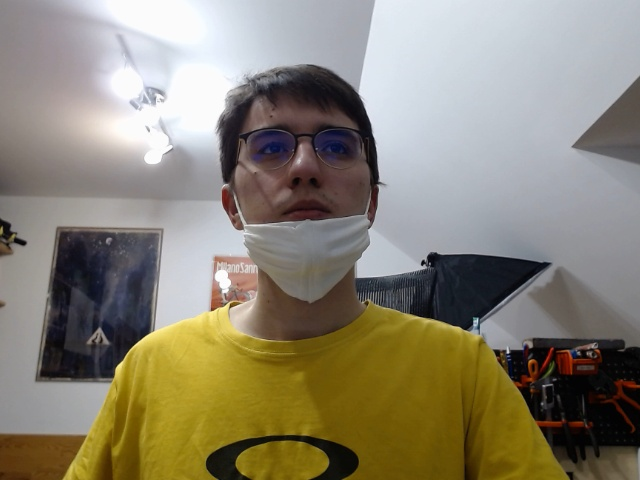WrongMask: (213, 62, 383, 305)
